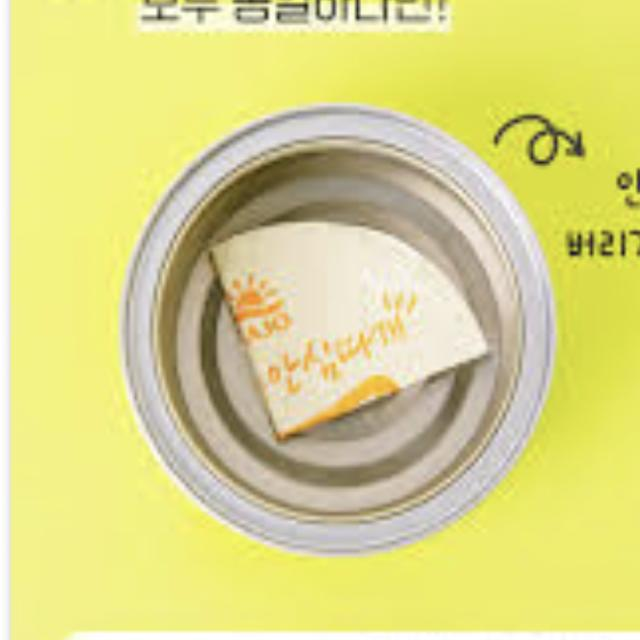recyclable: (110, 82, 565, 565)
